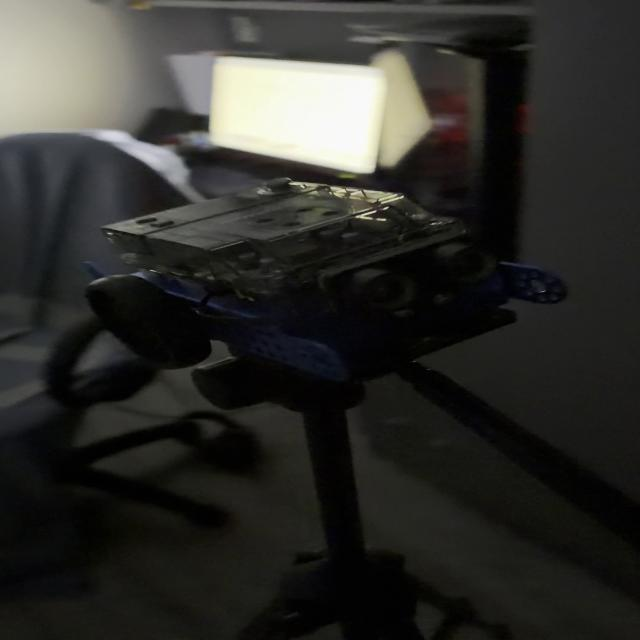mbot-detection: (73, 170, 579, 397)
